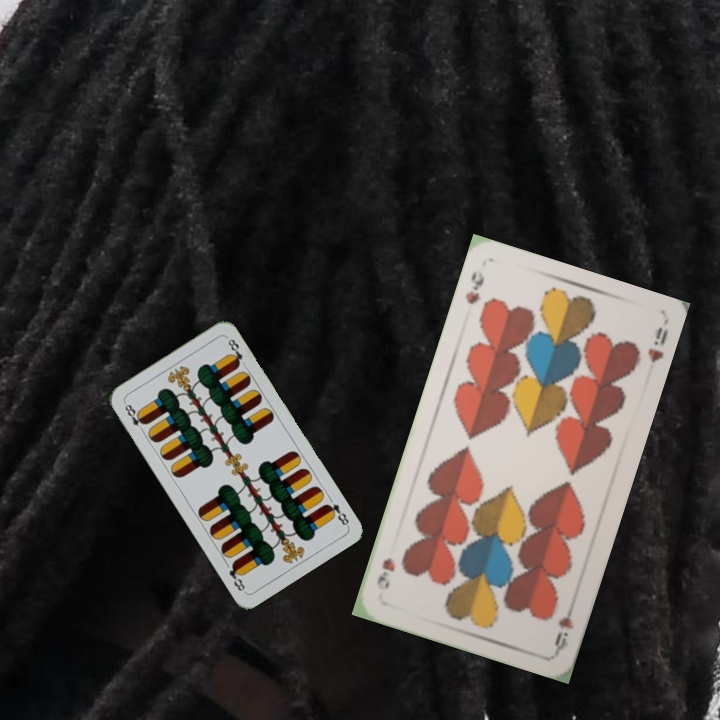E8: (120, 399, 149, 435), (321, 499, 352, 529)
H9: (550, 596, 579, 654), (461, 267, 487, 307)
